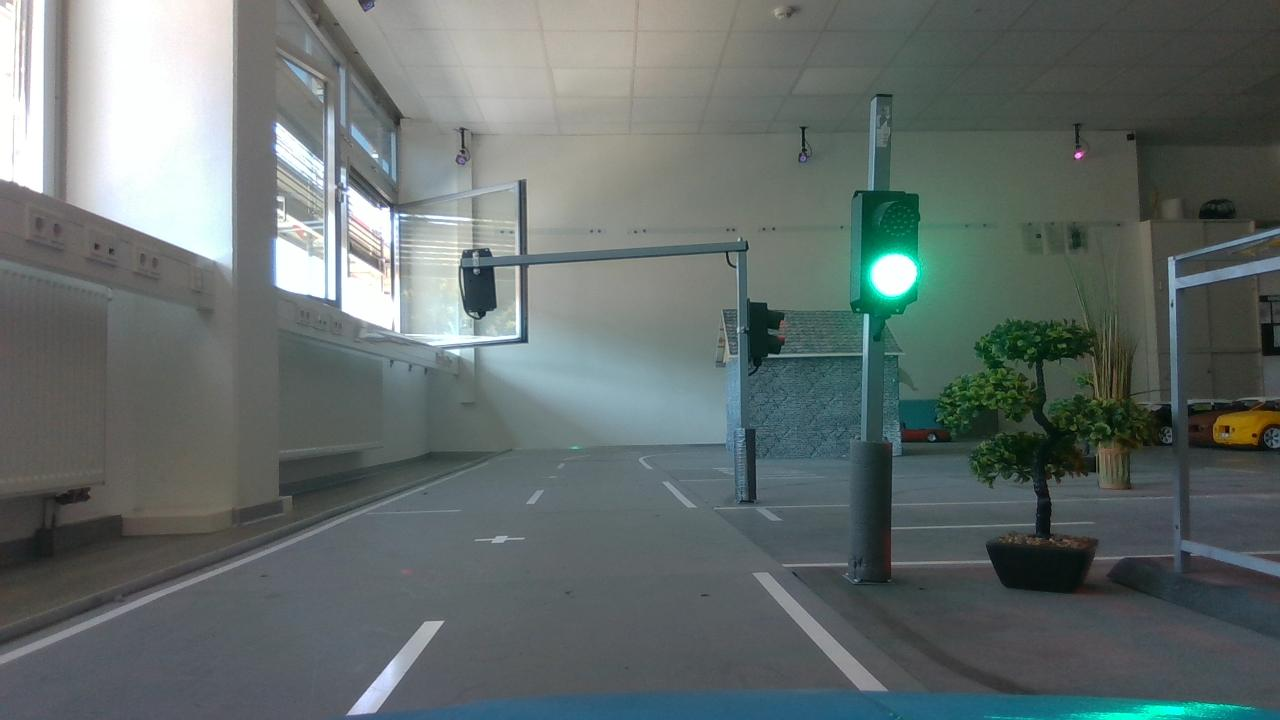traffic_light_green: (833, 177, 939, 340)
